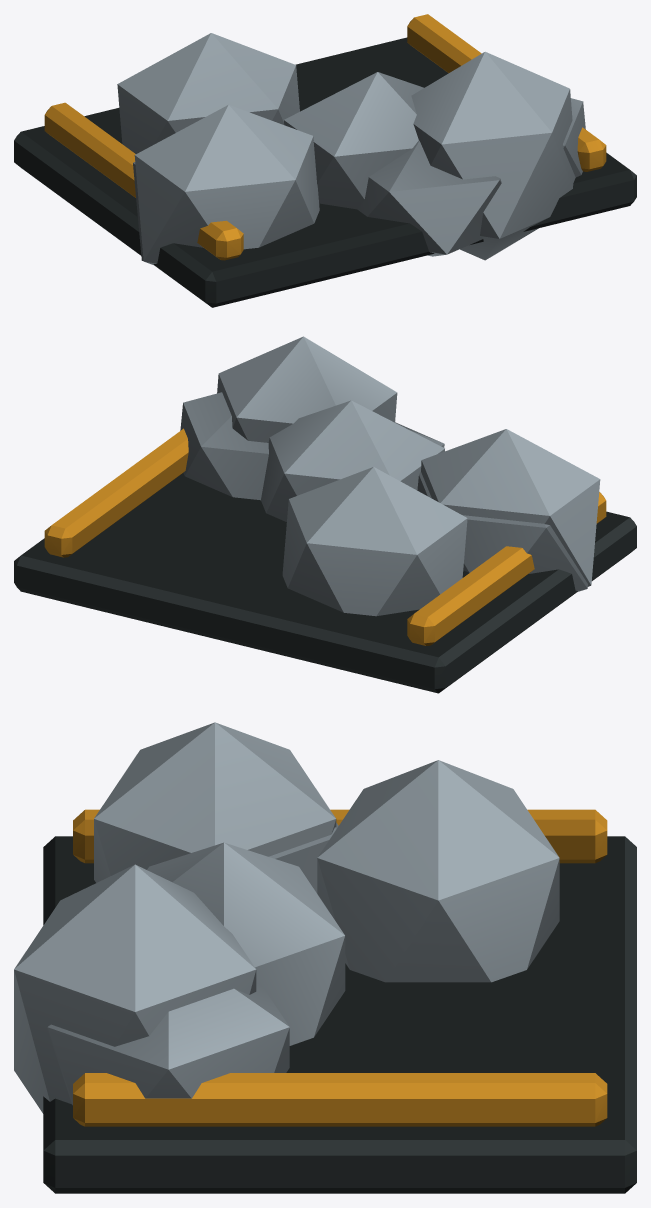
File: ResourceA.glb
3 renders of one model, top to bottom at view 1: azimuth 30°, elevation 25°; view 2: azimuth 150°, elevation 25°; view 3: azimuth 270°, elevation 25°, orthographic. The views are drawn at different scales.
Parts seen in each view (by area): view 1: export_ResourceA_Mineral; view 2: export_ResourceA_Mineral; view 3: export_ResourceA_Mineral.
Boxes of the visible parts, x1,y1,x2,y2 form: export_ResourceA_Mineral: (14, 14, 636, 307); export_ResourceA_Mineral: (14, 336, 636, 693); export_ResourceA_Mineral: (14, 722, 636, 1193).
Size of the model in its own units: 2.55 by 1.16 by 2.1.
